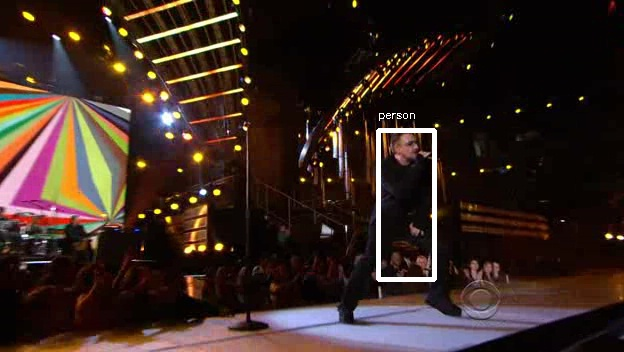person: (370, 131, 442, 260), (367, 131, 439, 260), (373, 131, 445, 260), (370, 128, 442, 257), (370, 134, 442, 263)
target_negative: (239, 57, 526, 349), (186, 90, 346, 288), (313, 10, 374, 308), (476, 122, 604, 165), (58, 351, 337, 352), (247, 340, 256, 341)
